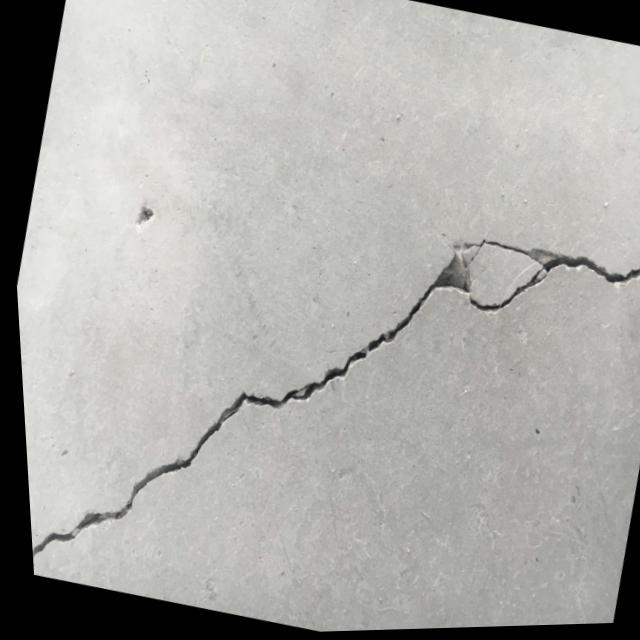Crack: (16, 345, 258, 616), (231, 237, 447, 452), (423, 204, 640, 356), (125, 195, 160, 238)
